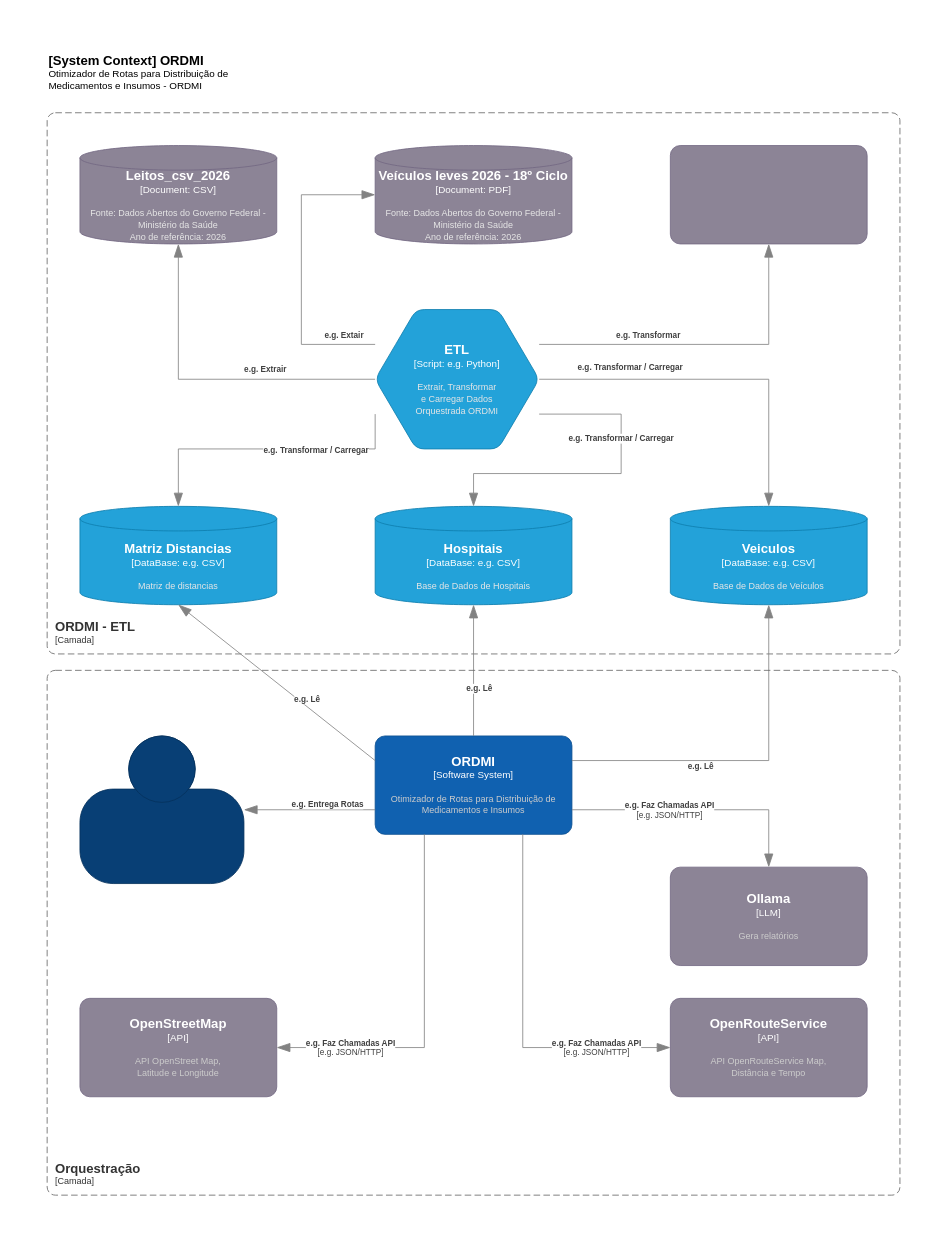
Some shapes in this 946 by 1241 pixel diagram are drawn without their labels. The centre of each missing label's shape, as x and y in pixels:
"Entregador [Person] Description of person." goes at point (161, 809).
"GPT [LLM] Converter PDF para CSV" goes at point (768, 194).
